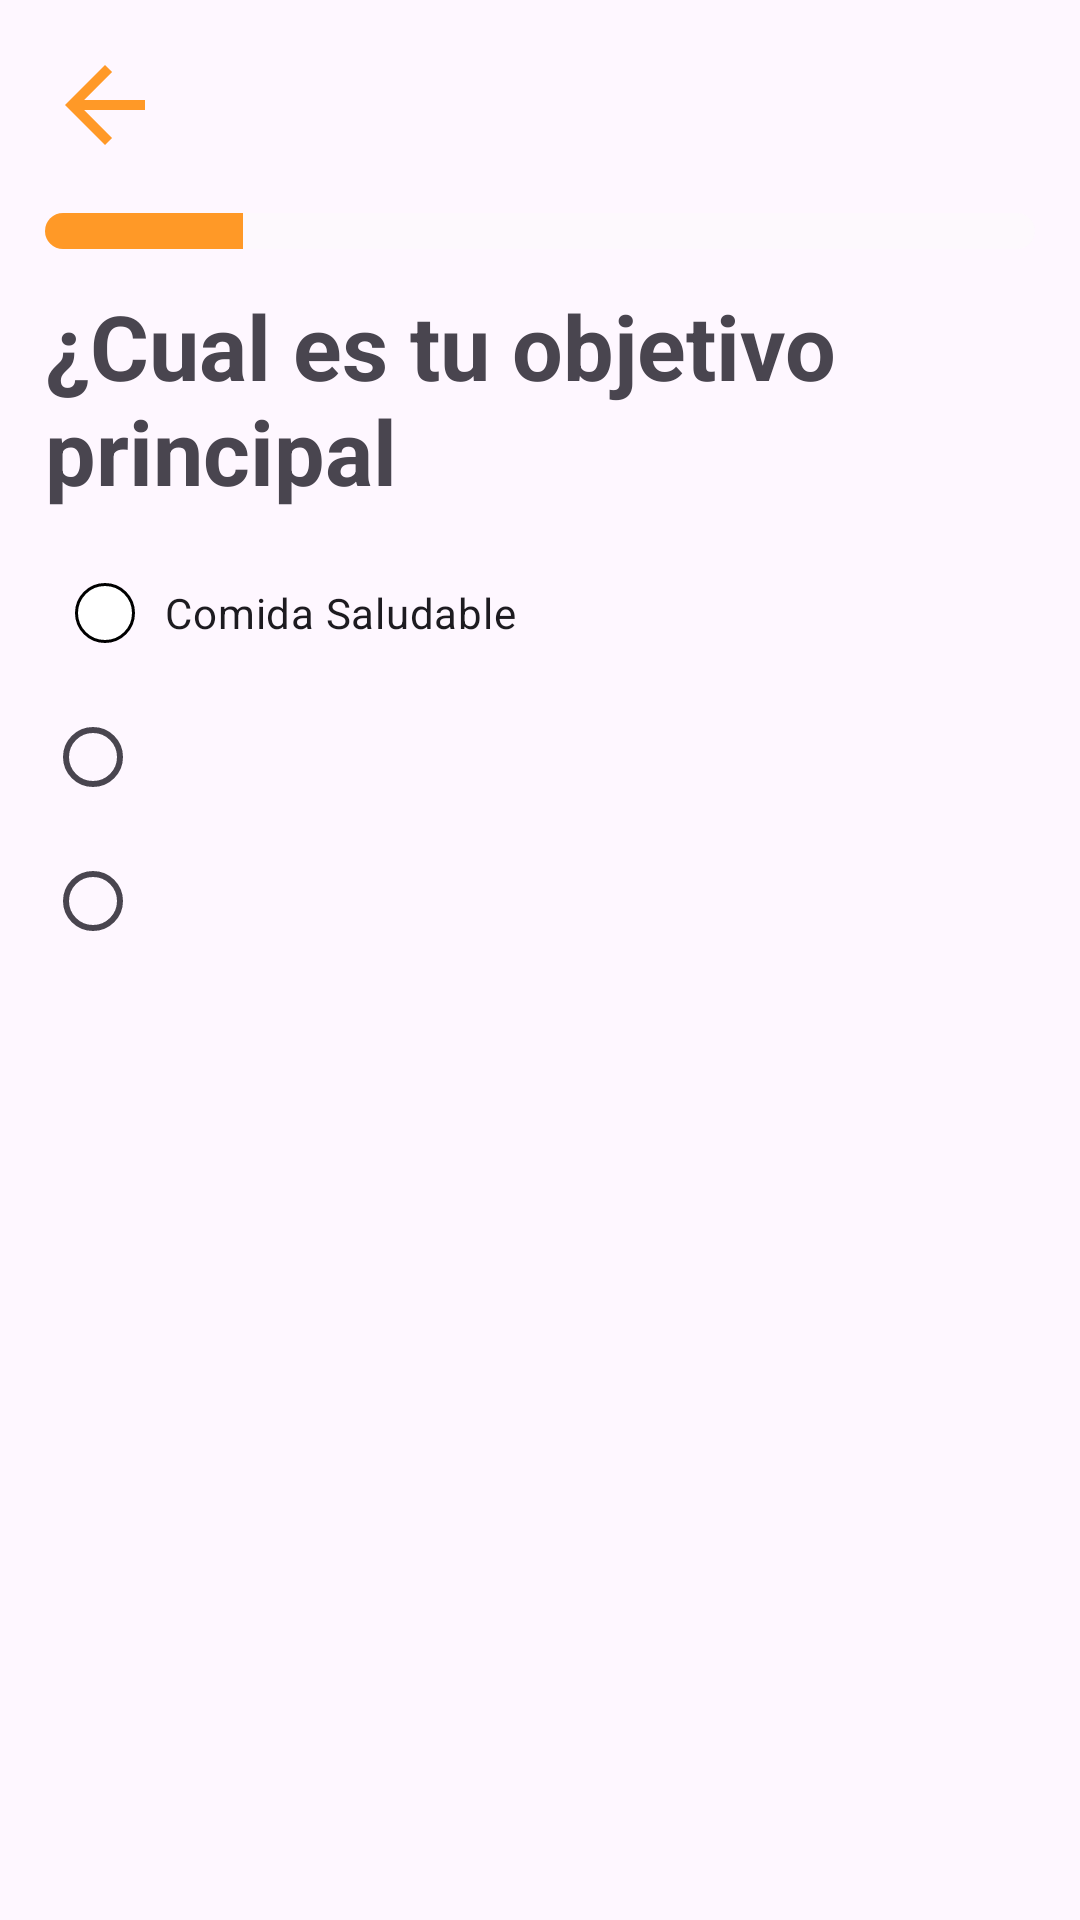

Locate icon controls on the screen. Image size 1080px x 1920px, boxes as (x1,y1,x2,y2).
back arrow: (65,65,145,145)
